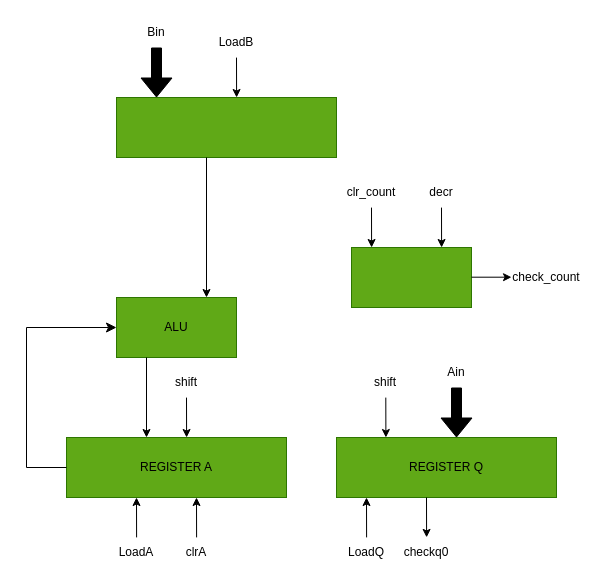
The diagram is 597 pixels wide and 584 high, and some of its shapes have lost their labels. Here are the shapes that lost their labels. From the top down, the centre of each, then its label:
pixel 226 127: REGISTER B
pixel 411 277: COUNTER
